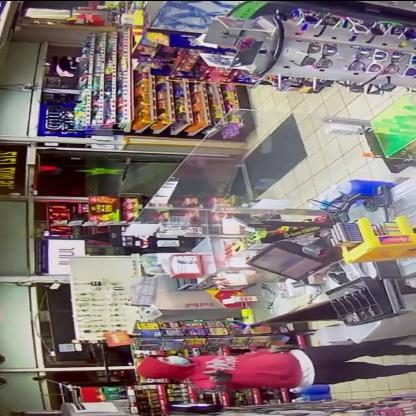Pistol: (197, 360, 237, 378)
